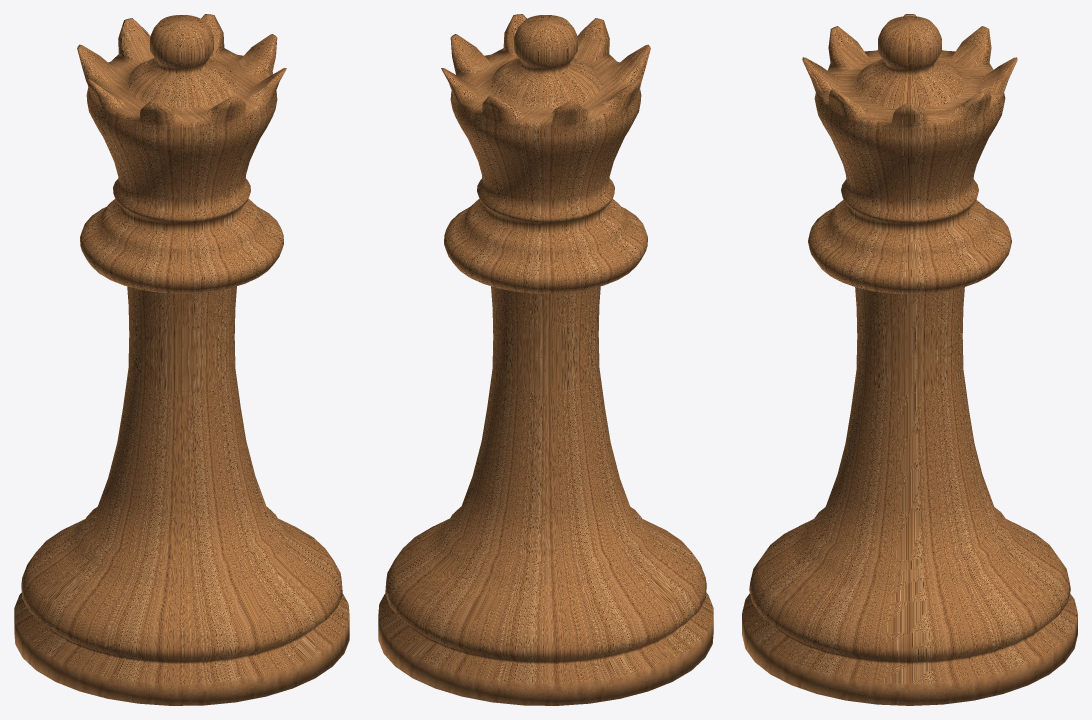
The model's file is Queen.gltf.
3 views of the same model, side by side, from view 1: azimuth 30°, elevation 25°; view 2: azimuth 150°, elevation 25°; view 3: azimuth 270°, elevation 25° (orthographic).
Parts seen in each view (by area): view 1: BlackQueen; view 2: BlackQueen; view 3: BlackQueen.
Boxes of the visible parts, bbox=[...] form: BlackQueen: bbox=[14, 14, 349, 705]; BlackQueen: bbox=[378, 14, 713, 705]; BlackQueen: bbox=[742, 14, 1077, 705].
Bounding box in the file's own units: 0.0448 × 0.0903 × 0.0448.
Materials: 1 (1 with a texture image).
